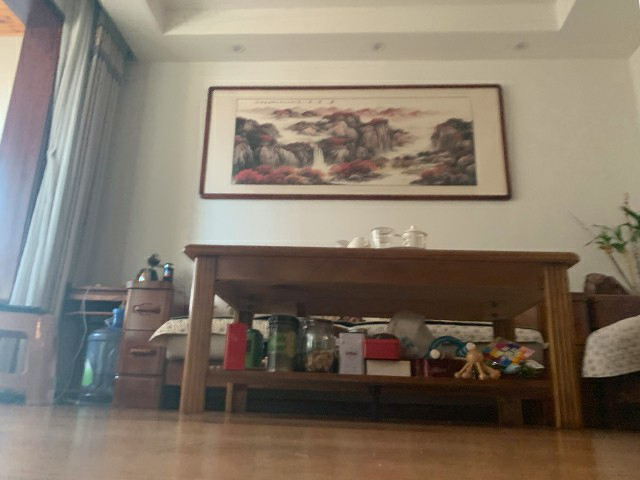cabinet: (118, 272, 170, 405)
stool: (1, 301, 60, 407)
table: (178, 244, 587, 432)
wire: (55, 288, 91, 405)
